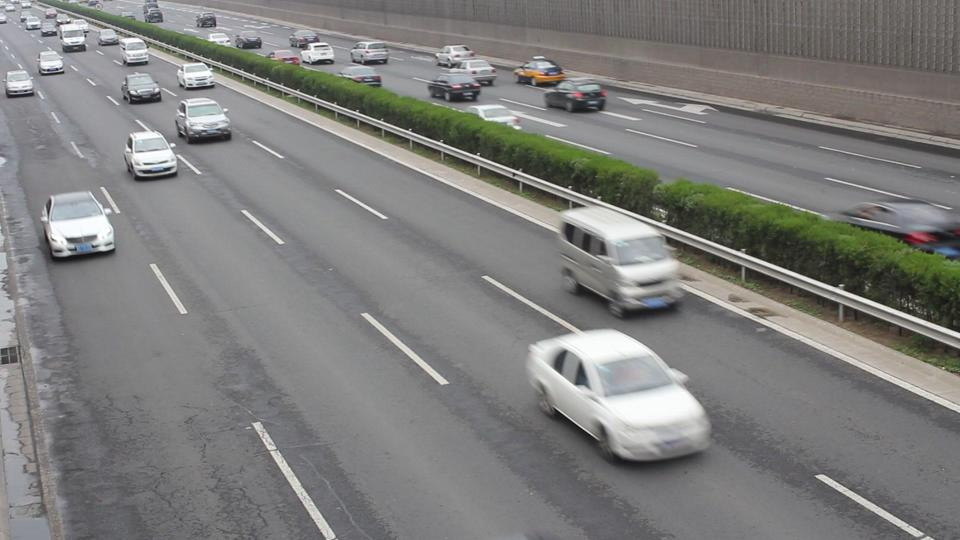car: (524, 328, 715, 464), (556, 204, 686, 318), (841, 200, 960, 254), (40, 189, 118, 260), (174, 97, 233, 143), (124, 129, 178, 179), (543, 80, 609, 113), (902, 226, 960, 262), (427, 72, 483, 102), (460, 104, 524, 130), (513, 57, 567, 86), (120, 72, 163, 104), (447, 59, 499, 85), (335, 65, 384, 87), (177, 63, 215, 90), (349, 41, 390, 65), (116, 38, 150, 66), (435, 44, 475, 67), (5, 69, 35, 98), (299, 43, 336, 65), (37, 50, 66, 76), (237, 23, 262, 53), (266, 47, 298, 69), (288, 31, 320, 49), (194, 5, 213, 31), (213, 32, 229, 52)
truck: (57, 21, 90, 53)
